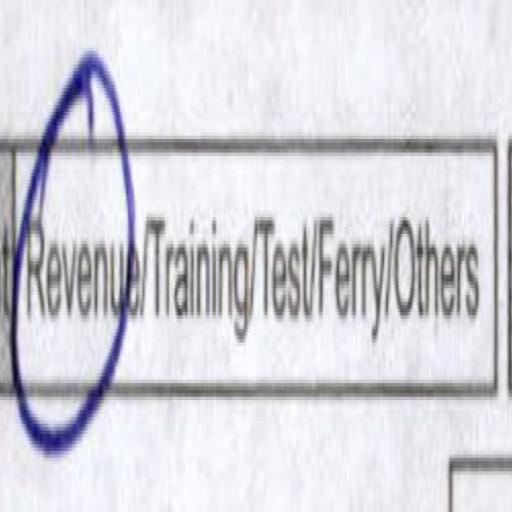check: (10, 66, 141, 462)
